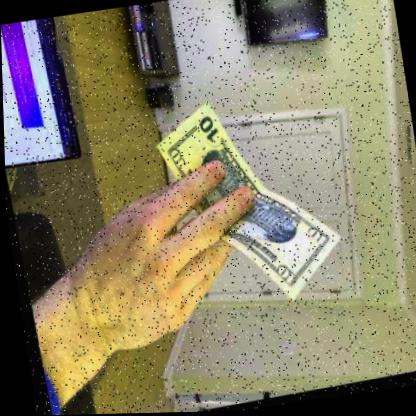dollar_back: (152, 103, 337, 306)
